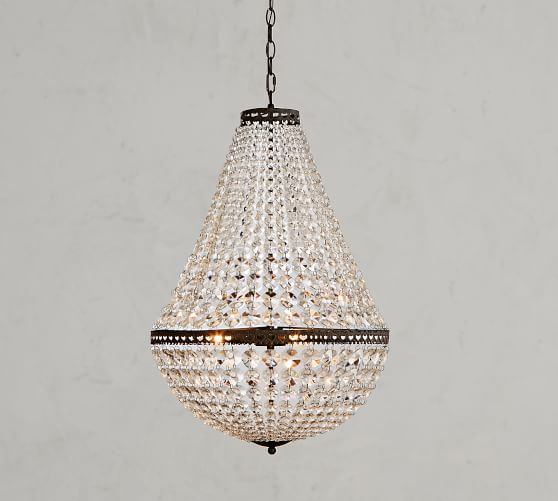chandelier: (132, 5, 434, 460)
